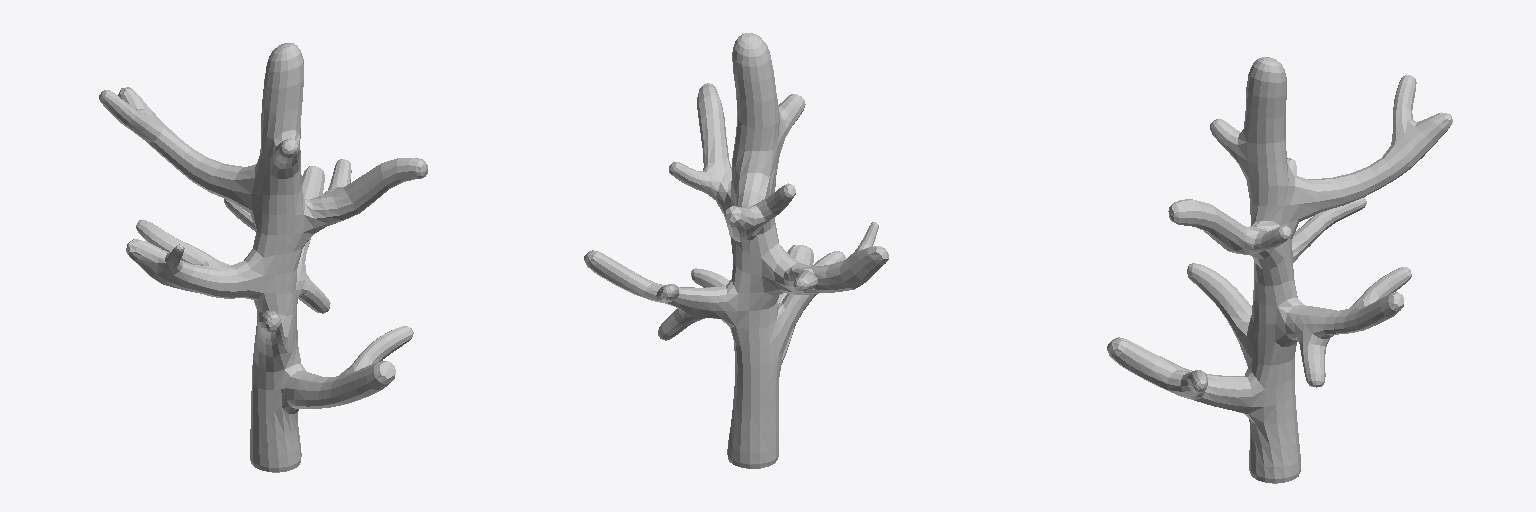
The model's file is plant4.obj.
3 views of the same model, side by side, from view 1: azimuth 30°, elevation 25°; view 2: azimuth 150°, elevation 25°; view 3: azimuth 270°, elevation 25° (orthographic).
Parts seen in each view (by area): view 1: coral_16; view 2: coral_16; view 3: coral_16.
Part boxes in pixels (left/top/right/bottom): coral_16: left=99, top=43, right=427, bottom=472; coral_16: left=584, top=33, right=888, bottom=468; coral_16: left=1107, top=57, right=1452, bottom=483.
Bounding box in the file's own units: 0.3833 × 0.615 × 0.4599.